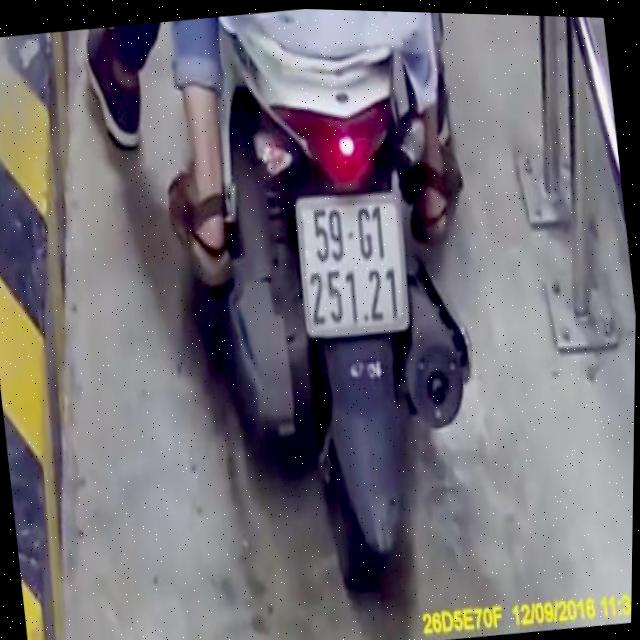motorcycle: (174, 21, 526, 630)
plate: (284, 178, 419, 349)
